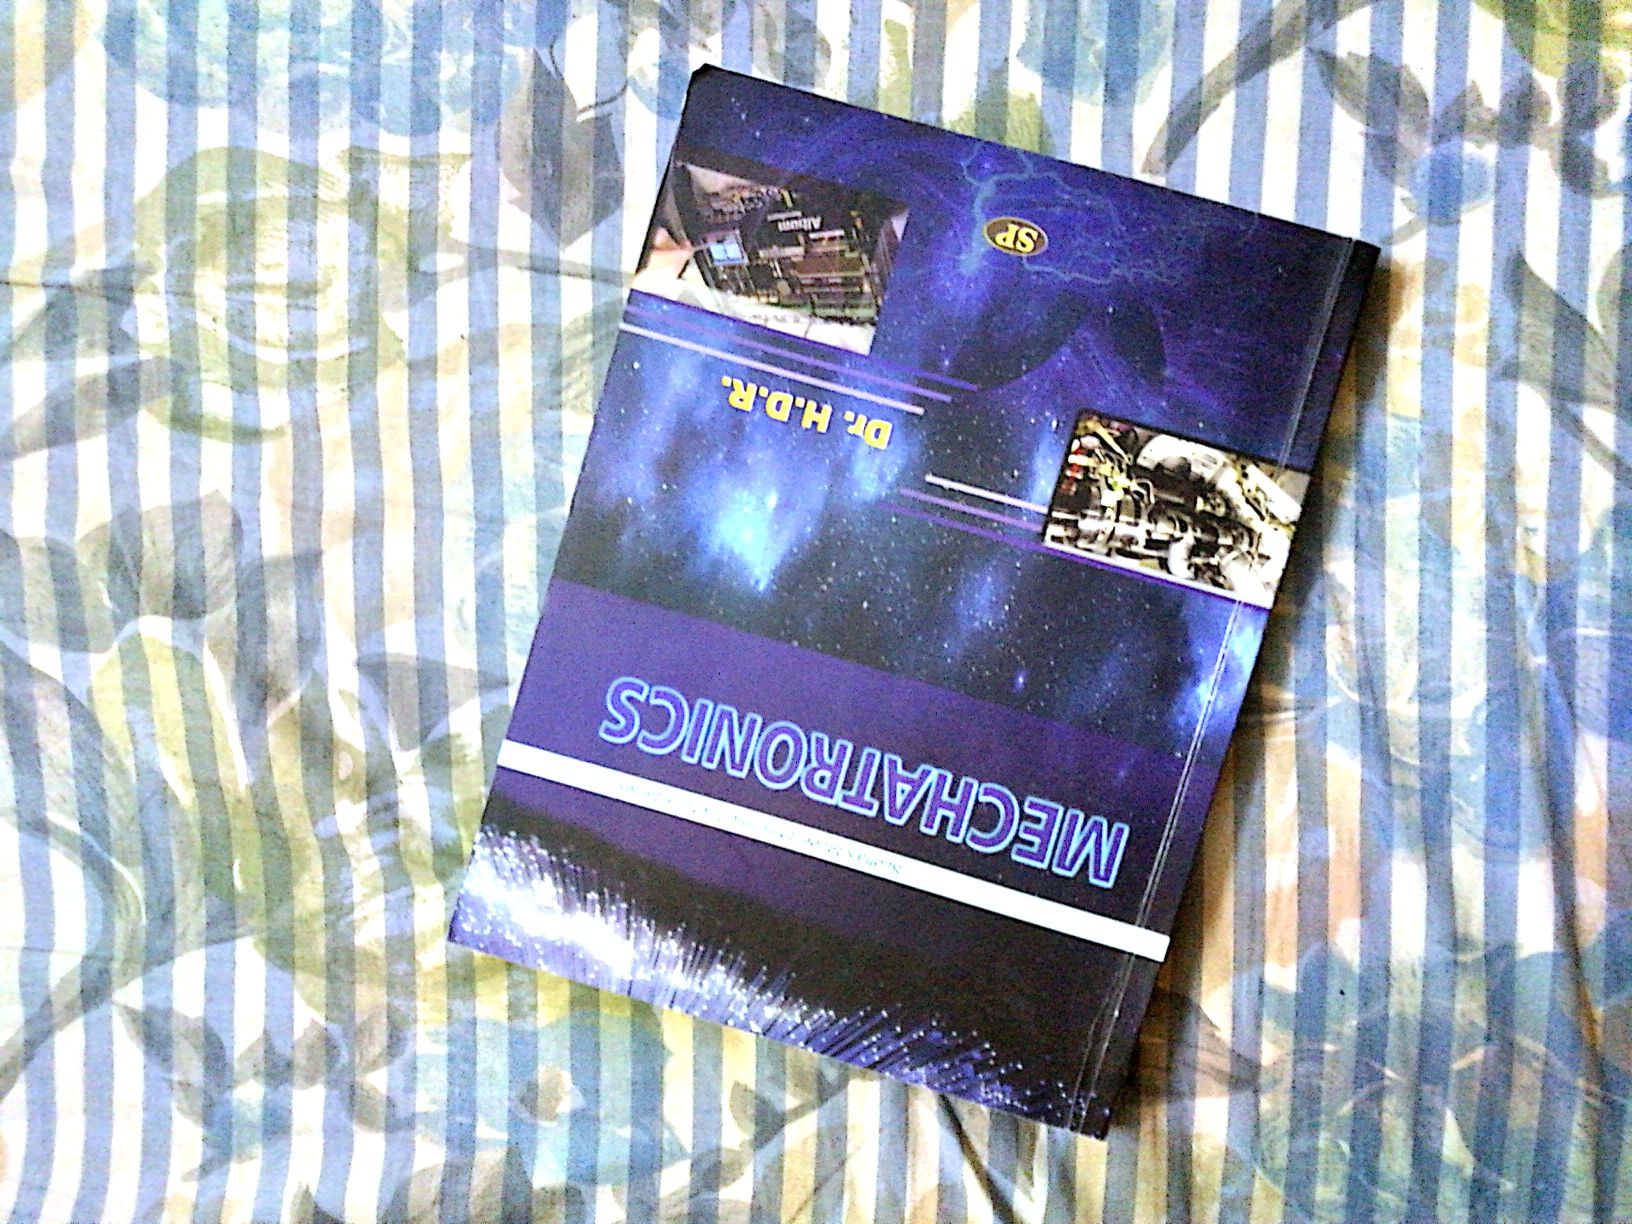mechatronics: (432, 81, 1417, 1104)
